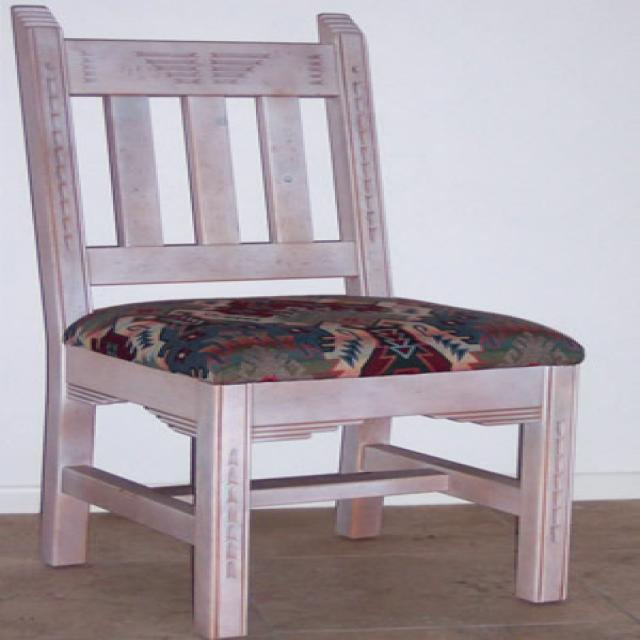chair: (16, 1, 587, 640)
